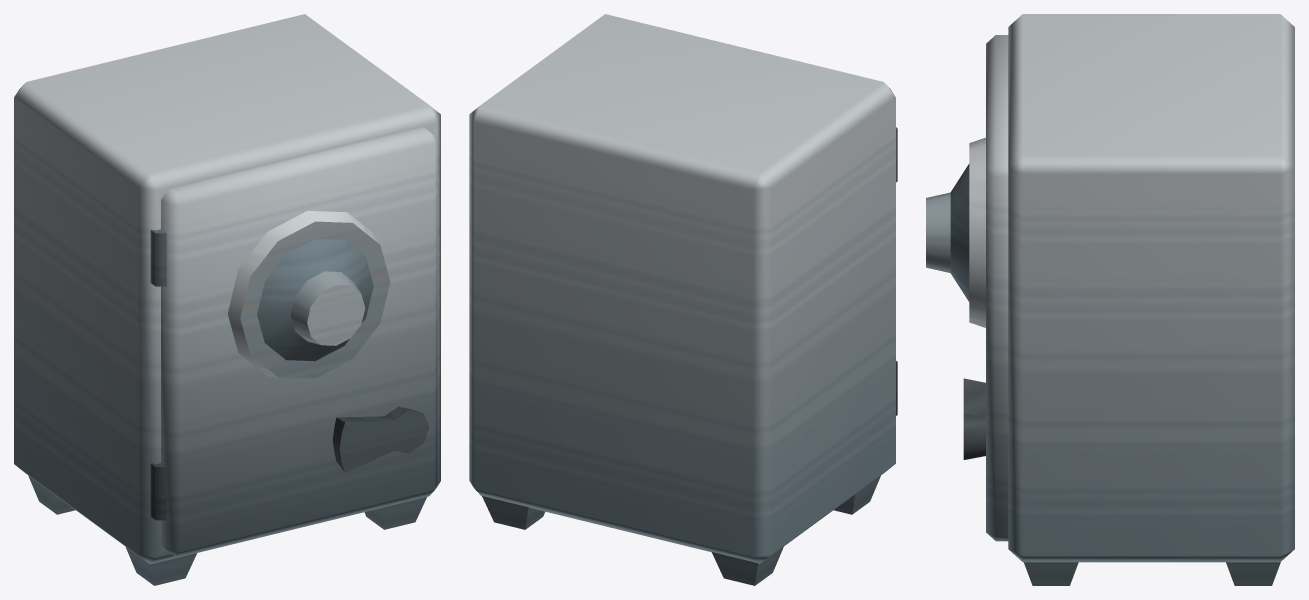
File: safe-box-01.glb
The picture shows the model from 3 angles, left to right: view 1: azimuth 30°, elevation 25°; view 2: azimuth 150°, elevation 25°; view 3: azimuth 270°, elevation 25°; orthographic projection. The views are drawn at different scales.
Visible parts, largest first — view 1: SafeBox_Door_01, SafeBox_01; view 2: SafeBox_01; view 3: SafeBox_01, SafeBox_Door_01.
Boxes of the visible parts, x1,y1,x2,y2 form: SafeBox_Door_01: (150, 127, 437, 556); SafeBox_01: (14, 14, 440, 585); SafeBox_01: (469, 14, 895, 585); SafeBox_01: (1008, 14, 1294, 585); SafeBox_Door_01: (926, 35, 1008, 541).
Bounding box in the file's own units: 0.8711 × 1.15 × 0.884.
1 material, 1 textured.
